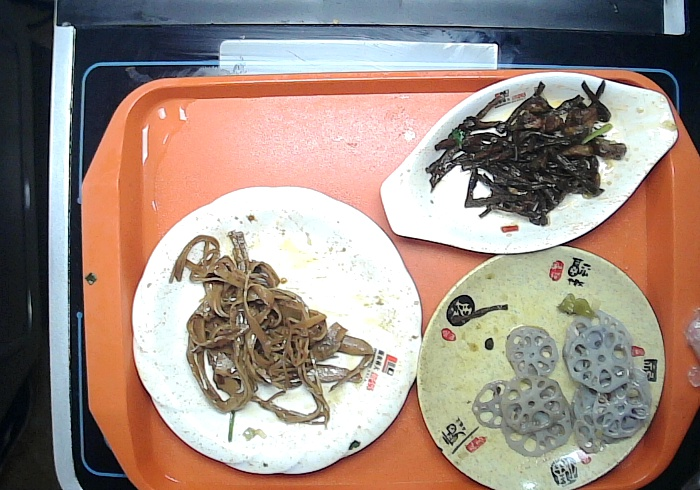NLDX-Bai_Zhe_Yuan_Pan: (128, 183, 429, 480)
NLDX-Fu_Zi_Yuan_Pan: (408, 240, 670, 488)
NLDX-Yu_Pan: (379, 70, 680, 257)
